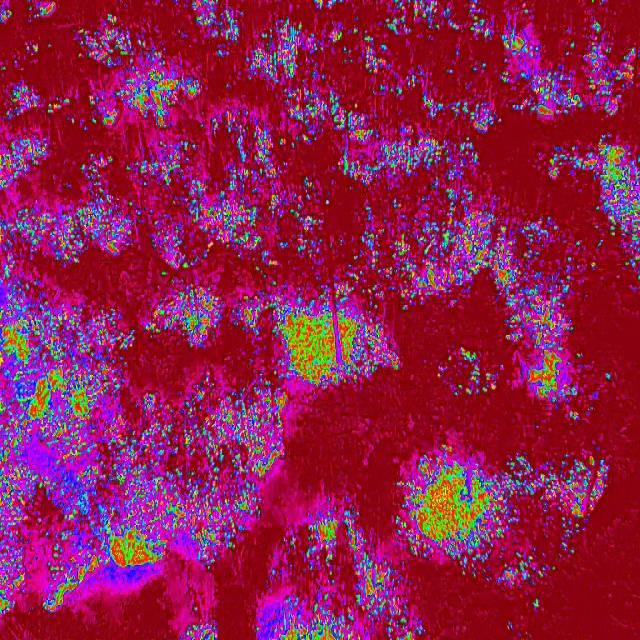fire: (0, 0, 165, 615), (166, 0, 258, 570), (290, 0, 406, 390), (406, 0, 493, 314), (394, 442, 610, 564), (254, 512, 426, 640), (494, 210, 596, 418), (500, 0, 640, 125), (260, 0, 290, 478), (547, 140, 640, 185), (597, 185, 640, 270), (438, 348, 496, 403), (178, 615, 224, 640)
